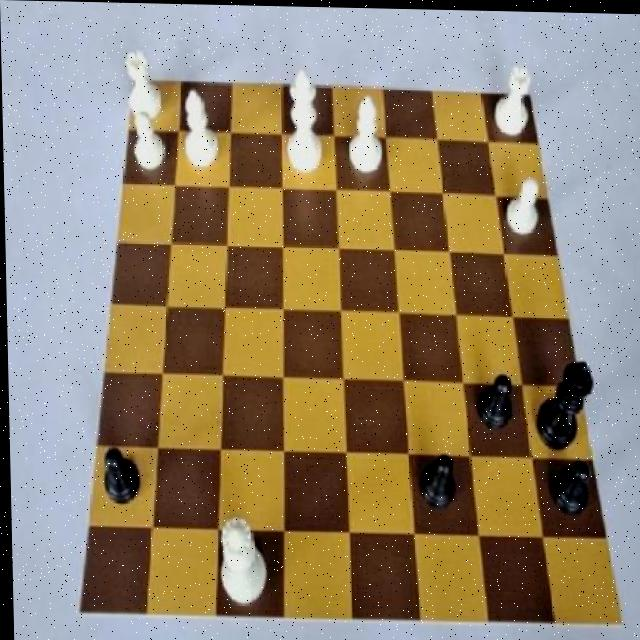black-bishop: (530, 348, 596, 453)
black-knight: (538, 449, 595, 529), (411, 443, 460, 517), (468, 362, 515, 439), (94, 440, 140, 518)
black-rook: (178, 78, 222, 174), (341, 91, 386, 177)
white-bishop: (279, 56, 328, 180)
white-knight: (503, 167, 544, 242), (127, 104, 168, 177)
white-pawn: (212, 508, 269, 612)
white-queen: (487, 56, 538, 138), (123, 48, 165, 123)
